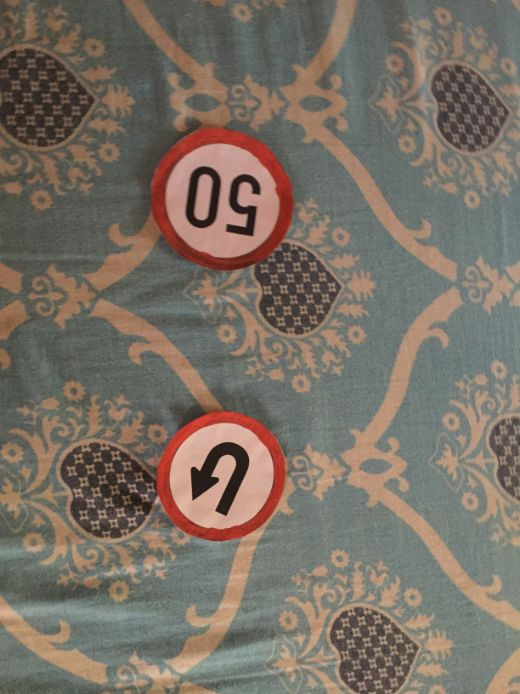speed-50: (150, 126, 294, 266)
u-turn: (156, 412, 289, 538)
